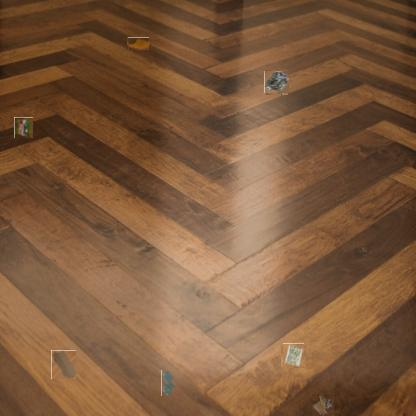dirty: (51, 350, 76, 379), (282, 344, 305, 368), (265, 71, 289, 94), (312, 394, 334, 416), (13, 118, 34, 138)
liquid: (161, 370, 176, 396), (127, 37, 150, 50)
